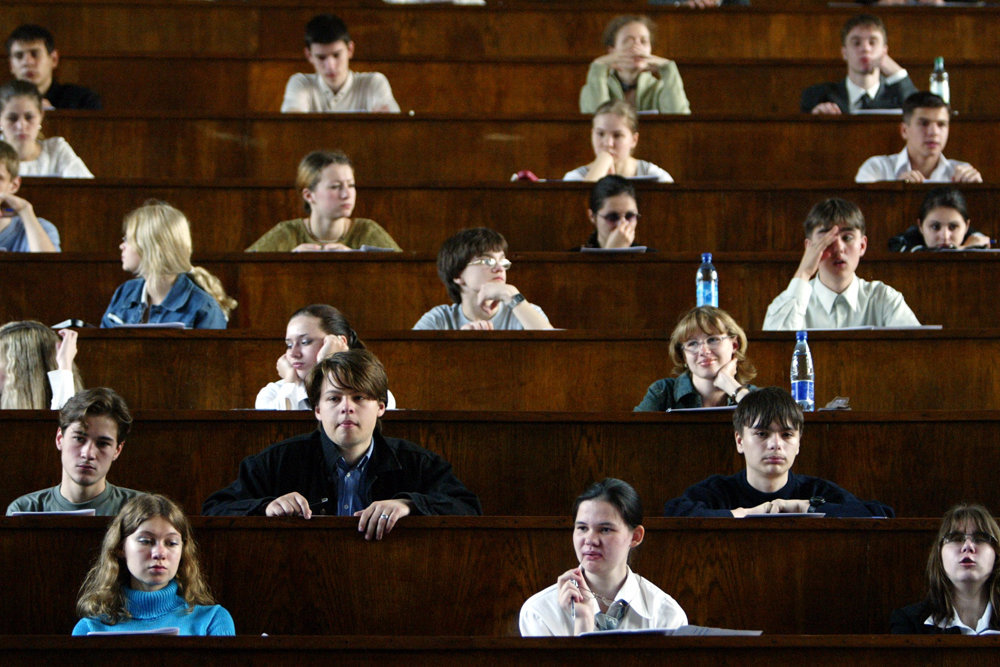students: (268, 351, 464, 545), (519, 478, 690, 637), (664, 388, 864, 515), (70, 494, 234, 636), (763, 194, 922, 329), (6, 387, 155, 515), (99, 202, 240, 329), (248, 150, 399, 252), (254, 304, 396, 409), (411, 228, 553, 331), (633, 304, 765, 411), (902, 501, 1000, 633), (799, 13, 920, 116), (855, 90, 983, 185), (278, 15, 401, 113), (578, 14, 693, 114), (1, 77, 97, 177), (563, 98, 675, 181), (1, 319, 87, 409), (1, 138, 67, 254), (898, 186, 997, 254), (579, 173, 649, 250), (7, 20, 62, 110)
